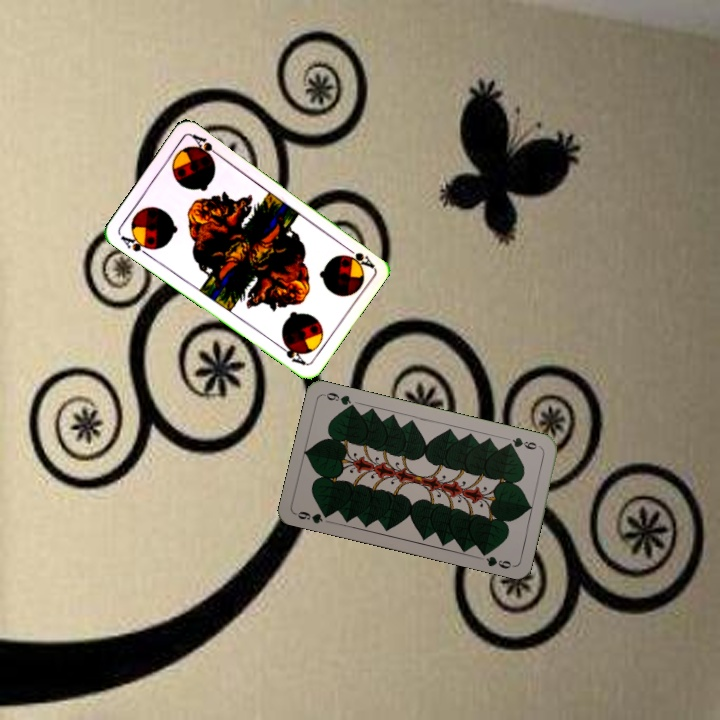G9: (502, 433, 544, 452), (292, 507, 334, 526)
SA: (116, 231, 156, 259), (340, 242, 376, 271)
